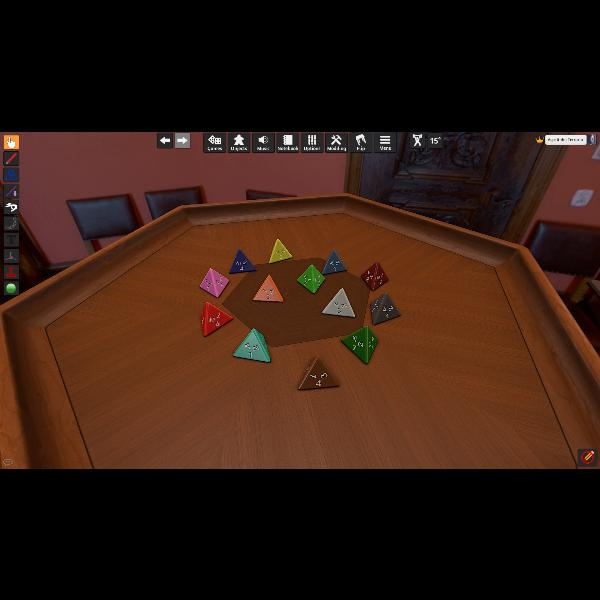d4: (298, 356, 340, 390), (342, 325, 378, 364), (232, 328, 270, 362), (202, 299, 232, 335), (322, 287, 354, 317), (372, 291, 400, 324), (200, 268, 228, 298), (360, 261, 387, 291), (252, 274, 282, 301), (298, 264, 323, 294), (230, 248, 256, 274), (321, 249, 346, 275), (270, 238, 292, 264)
